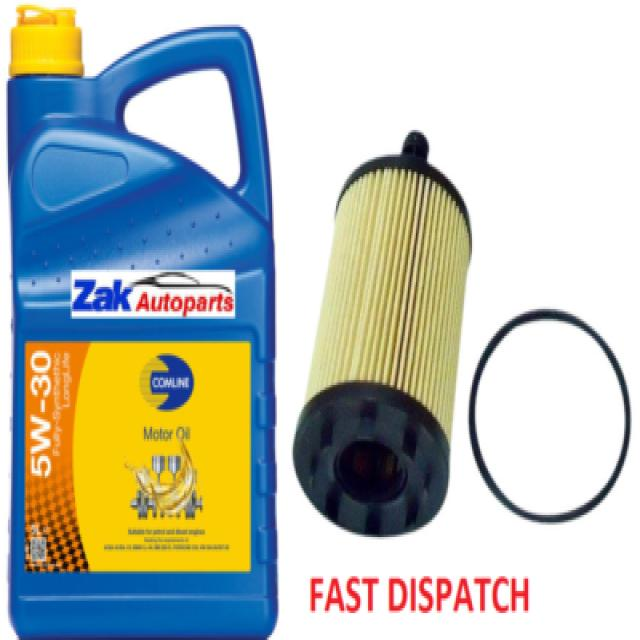motor_oil: (5, 5, 280, 640)
oil_filter: (288, 126, 474, 540)
